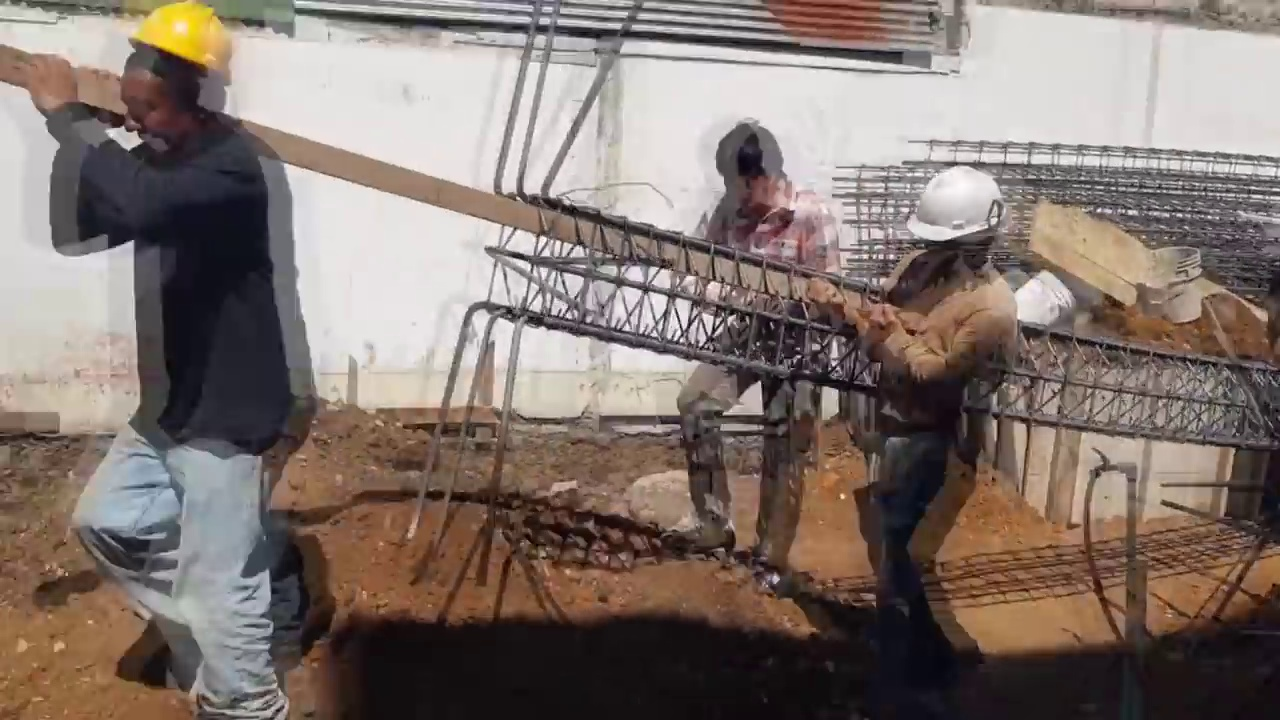helmet: (118, 0, 224, 76), (904, 166, 1012, 239)
helmet-off: (718, 119, 789, 217)
helmet-on: (116, 1, 229, 153), (903, 166, 1011, 288)
person: (77, 7, 318, 684), (807, 151, 1018, 656), (673, 113, 841, 573)
